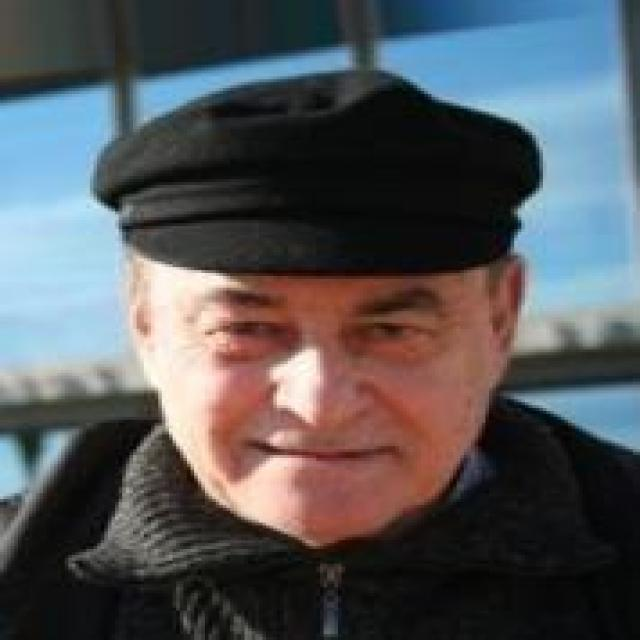nomask: (100, 88, 546, 587)
